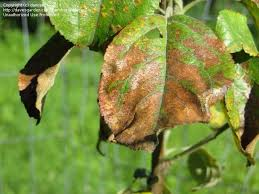Diseased_Leaves: (130, 61, 217, 100), (141, 23, 226, 60), (103, 109, 206, 137), (106, 45, 121, 78), (19, 72, 32, 89)
